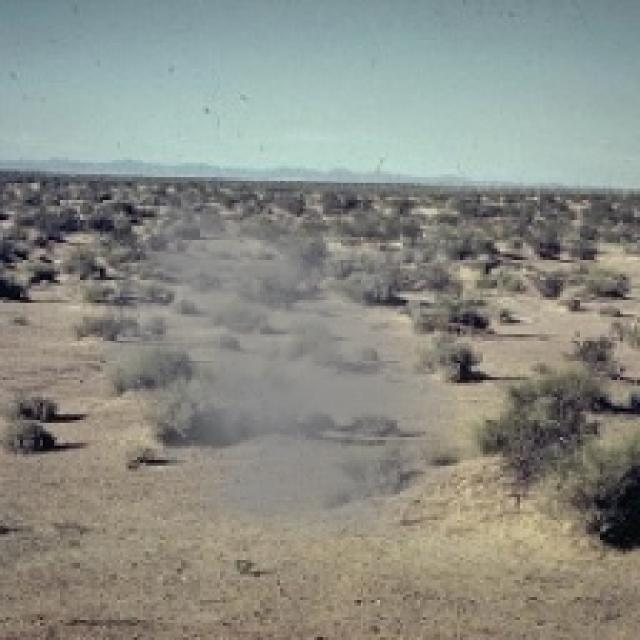smoke: (77, 194, 457, 549)
